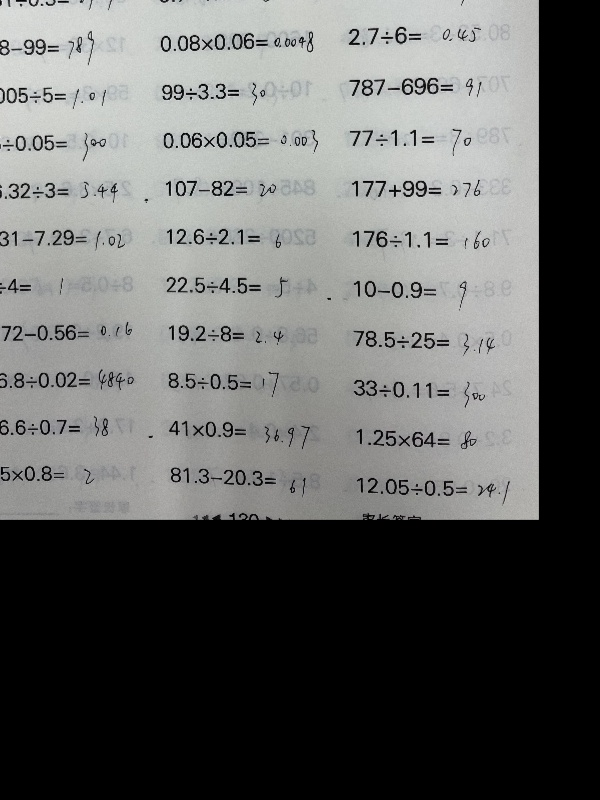equation: (164, 416, 312, 457), (349, 376, 488, 414), (165, 463, 309, 499), (159, 125, 322, 155), (351, 474, 512, 504), (348, 125, 478, 161), (156, 27, 317, 56), (347, 327, 497, 357), (349, 276, 469, 311), (0, 27, 98, 68), (349, 226, 490, 254), (344, 22, 484, 50), (161, 272, 291, 302), (0, 365, 138, 393), (163, 224, 285, 255), (344, 72, 484, 99), (164, 368, 282, 400), (0, 130, 110, 162), (0, 318, 135, 344), (352, 425, 479, 452), (348, 175, 484, 200), (0, 175, 120, 203), (0, 224, 127, 250), (157, 79, 269, 108), (0, 82, 109, 110), (164, 320, 286, 345), (0, 460, 97, 491), (0, 411, 111, 438), (162, 176, 280, 200), (0, 271, 72, 298), (0, 0, 118, 14), (344, 0, 475, 9), (154, 0, 298, 7)
